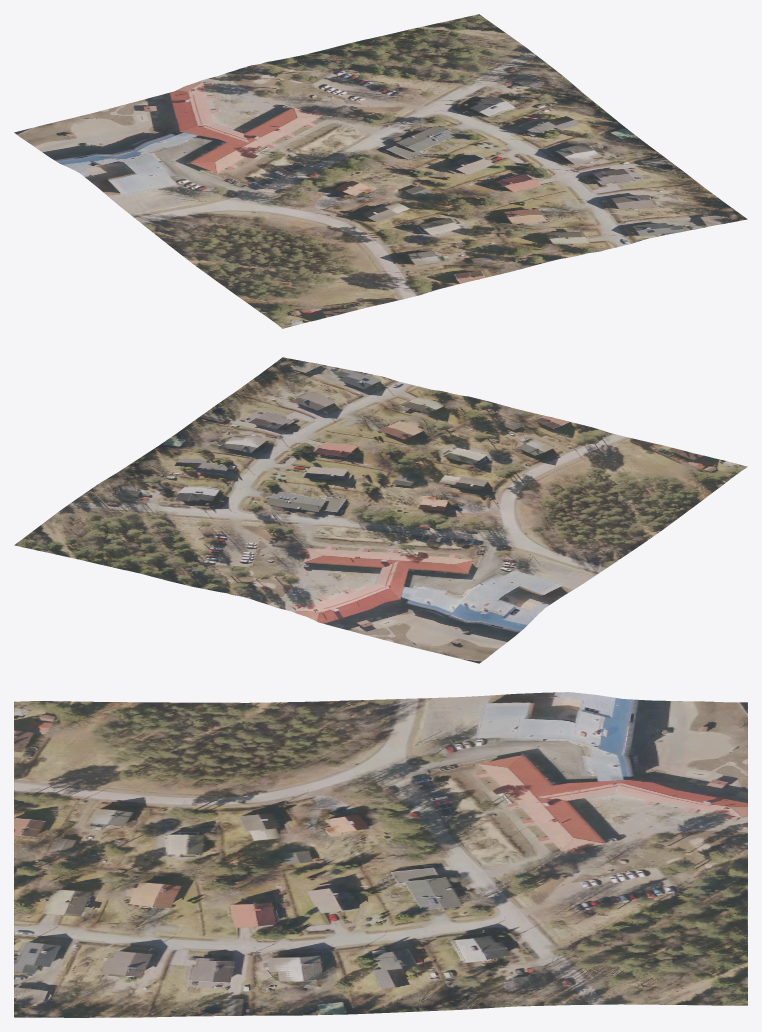
Rendered from CM_Terrain_24490458_6821432.fbx.
3 renders of one model, top to bottom at view 1: azimuth 30°, elevation 25°; view 2: azimuth 150°, elevation 25°; view 3: azimuth 270°, elevation 25°, orthographic. The views are drawn at different scales.
Visible parts, largest first — view 1: CM_Terrain_24490458_6821432_LOD0; view 2: CM_Terrain_24490458_6821432_LOD0; view 3: CM_Terrain_24490458_6821432_LOD0.
Part boxes in pixels (bbox=[...]): CM_Terrain_24490458_6821432_LOD0: bbox=[14, 14, 747, 328]; CM_Terrain_24490458_6821432_LOD0: bbox=[14, 357, 747, 663]; CM_Terrain_24490458_6821432_LOD0: bbox=[14, 692, 747, 1017].
Size of what is drawn, in the model's own units: 205 by 6.24 by 205.
